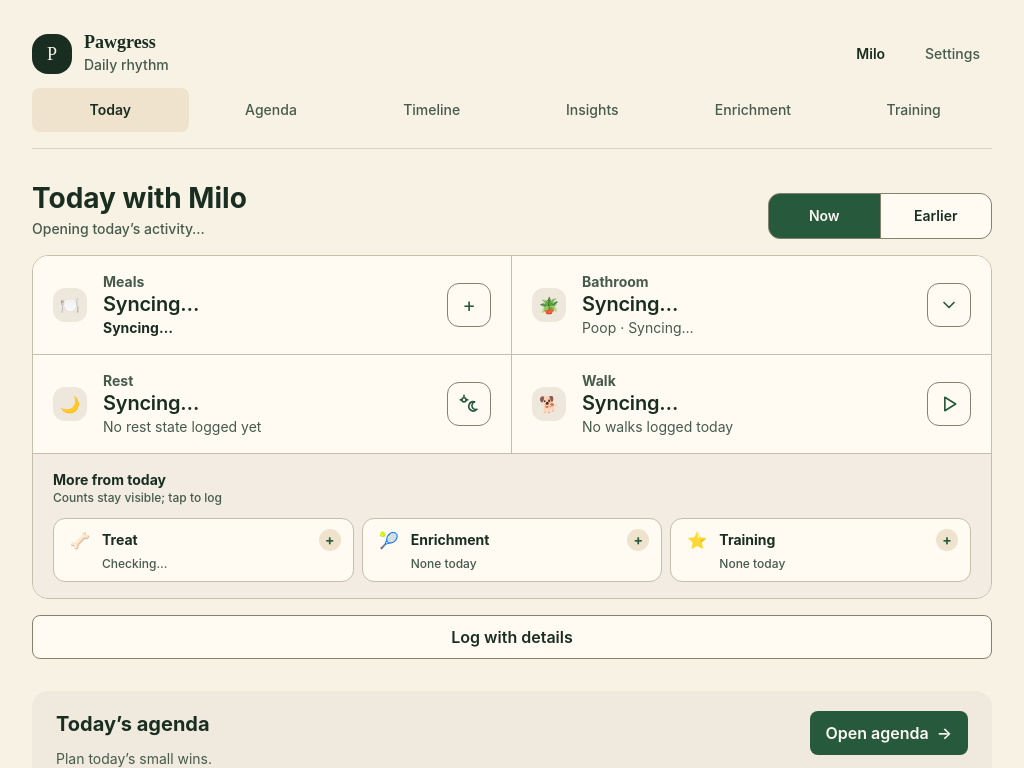
Test: DashboardPage quick logging › requires a rating for every selected training command
Click the button with aria-label "Log training" at (747,540), box [670,518,971,582]
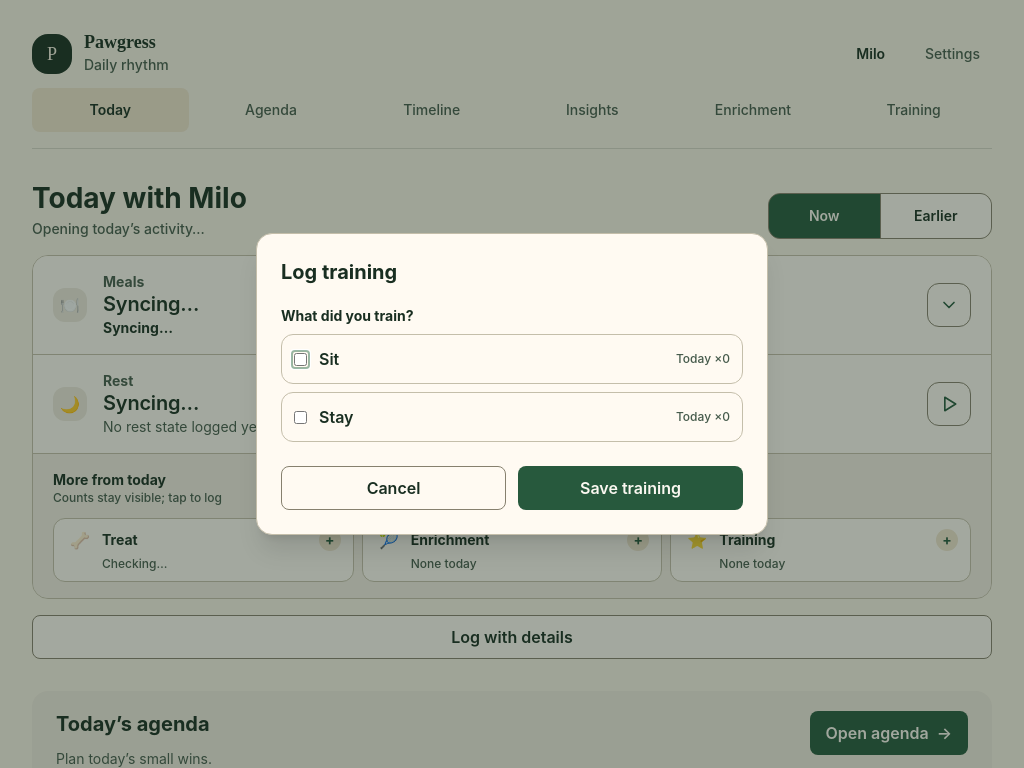
Click the checkbox labelled "Sit" at (300,359), box [294,352,307,366]
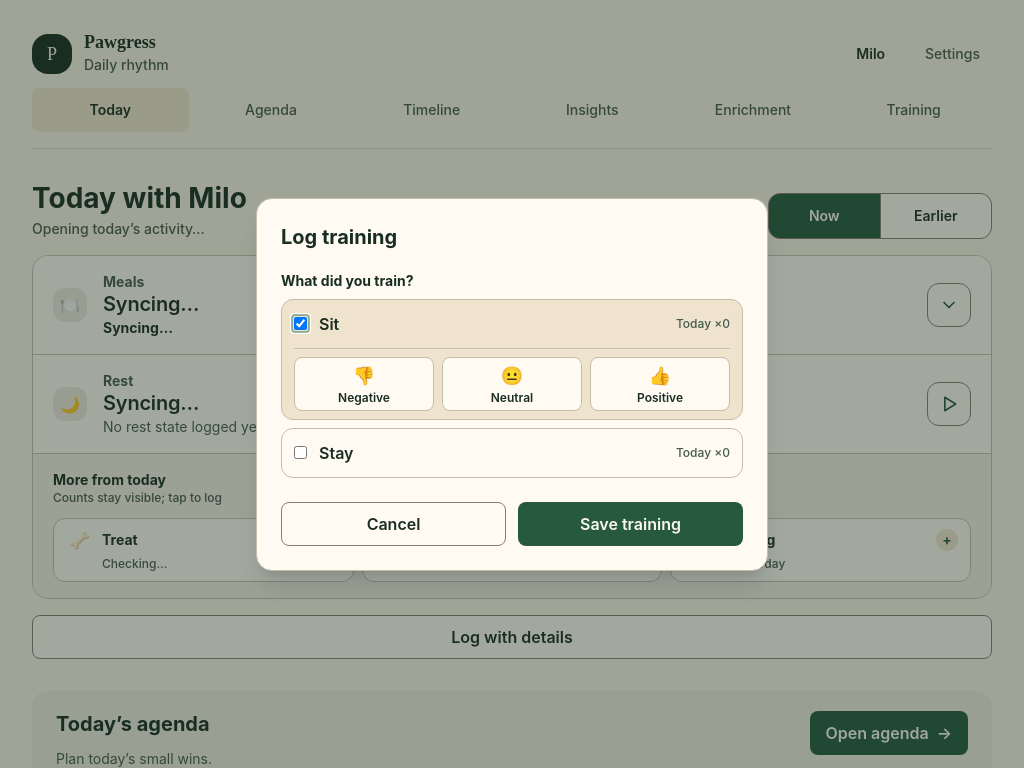
Click the checkbox labelled "Stay" at (300,452), box [294,446,307,459]
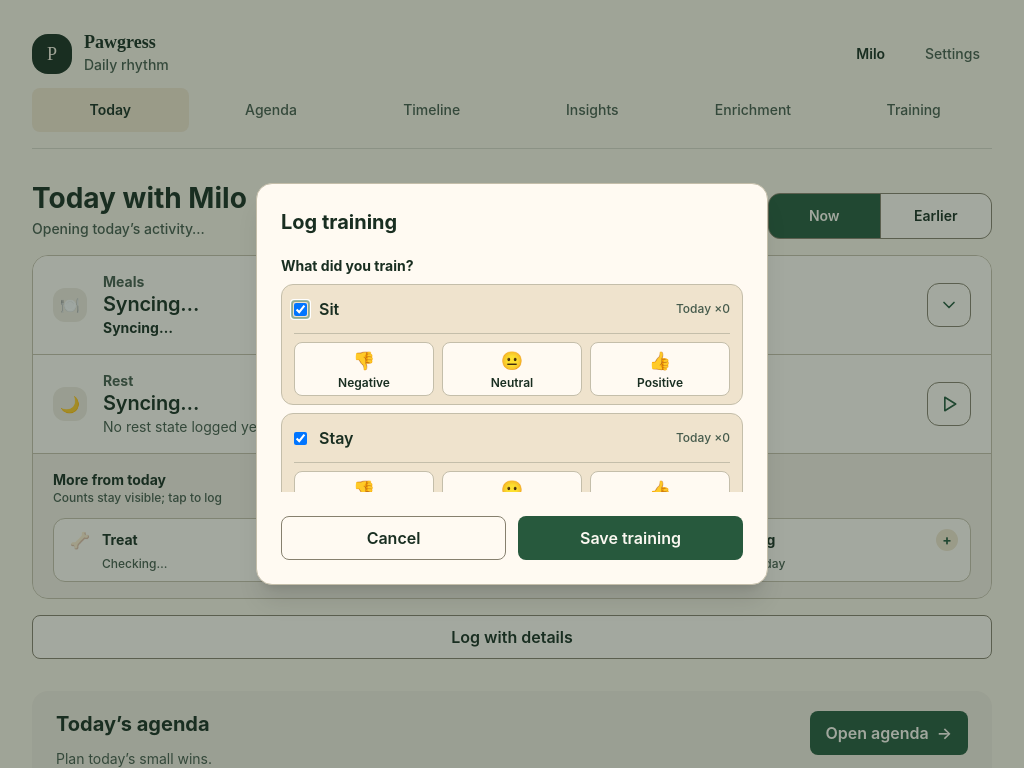
Click the radio button labelled "Positive" next to "Neutral" at (660,369), box [590,342,730,396]
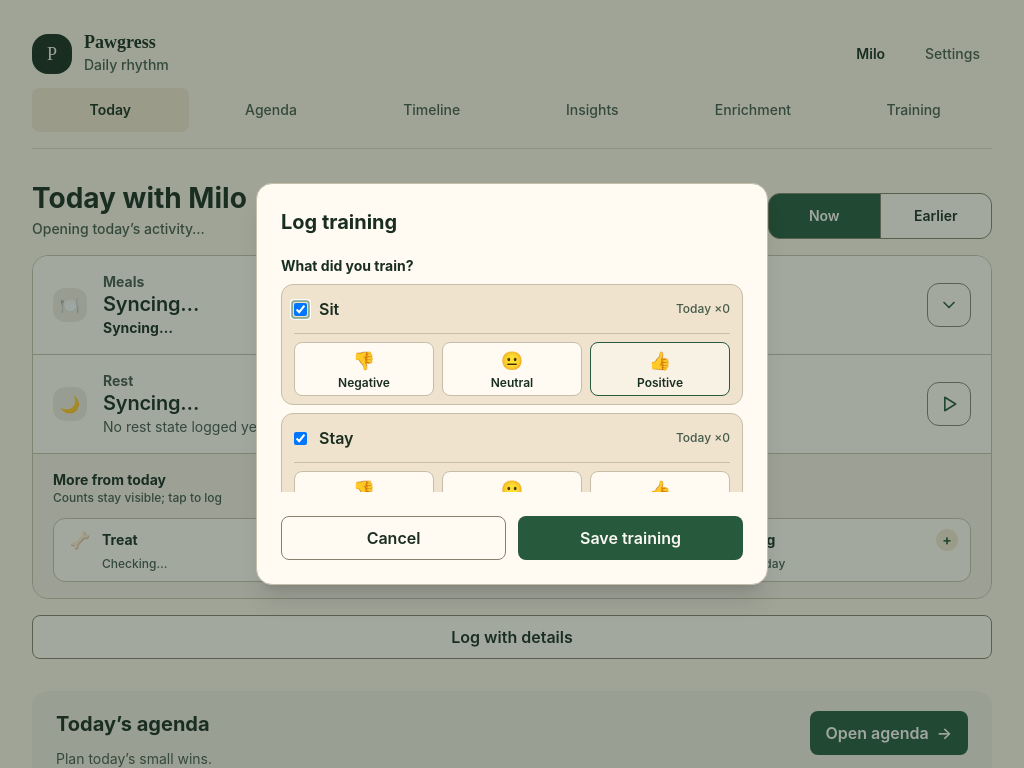
Click the button "Save training" at (630,538), box [518,516,743,560]
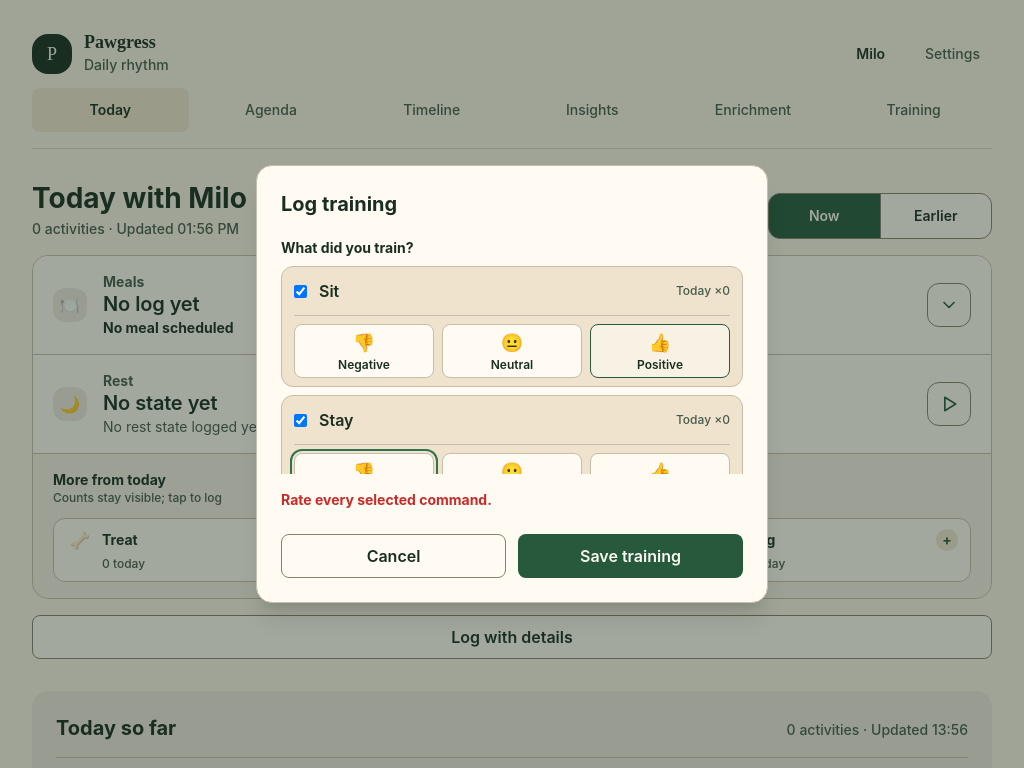
Now the message reads "Rate every selected command.", box [281,491,492,508]
